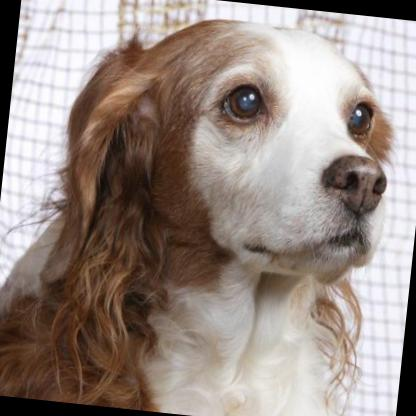Brittany_spaniel: (0, 0, 407, 416)
